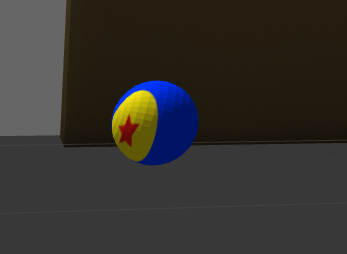toy story ball: (112, 80, 198, 166)
